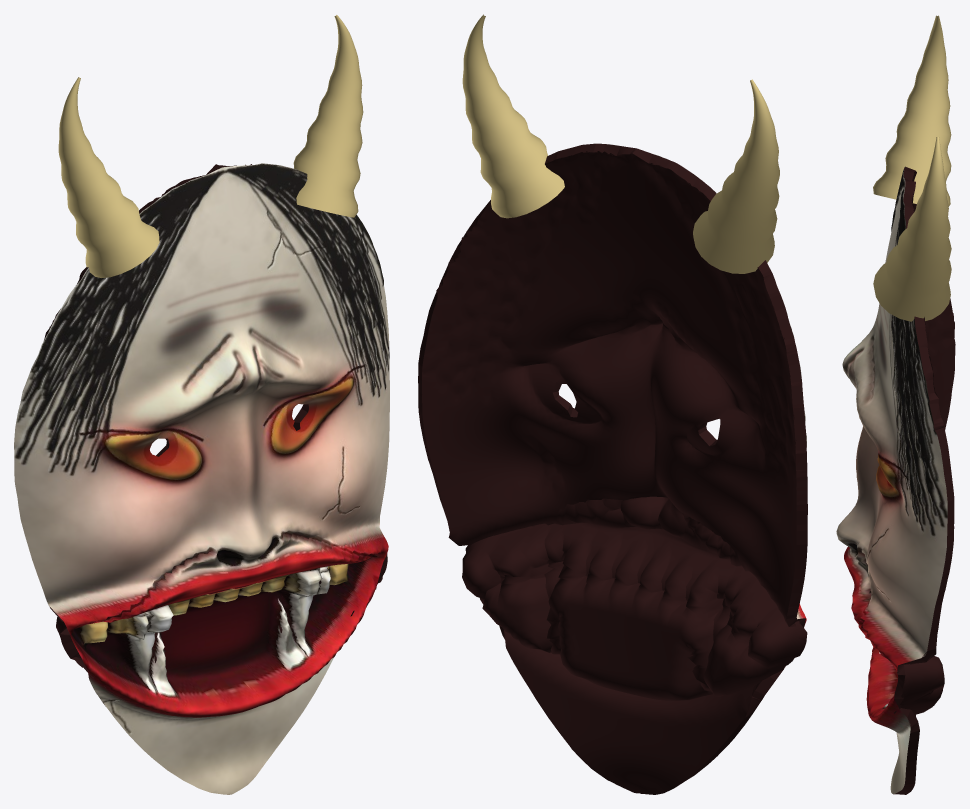
File: 般若_hannya.glb
3 renders of one model, left to right at view 1: azimuth 30°, elevation 25°; view 2: azimuth 150°, elevation 25°; view 3: azimuth 270°, elevation 25°, orthographic. The views are drawn at different scales.
Visible parts, largest first — view 1: hannya; view 2: hannya; view 3: hannya.
Part boxes in pixels (x1,y1,x2,y2): hannya: [14, 15, 389, 794]; hannya: [418, 14, 807, 794]; hannya: [836, 15, 955, 794].
Bounding box in the file's own units: 0.1796 × 0.335 × 0.0506.
2 materials, 1 textured.
